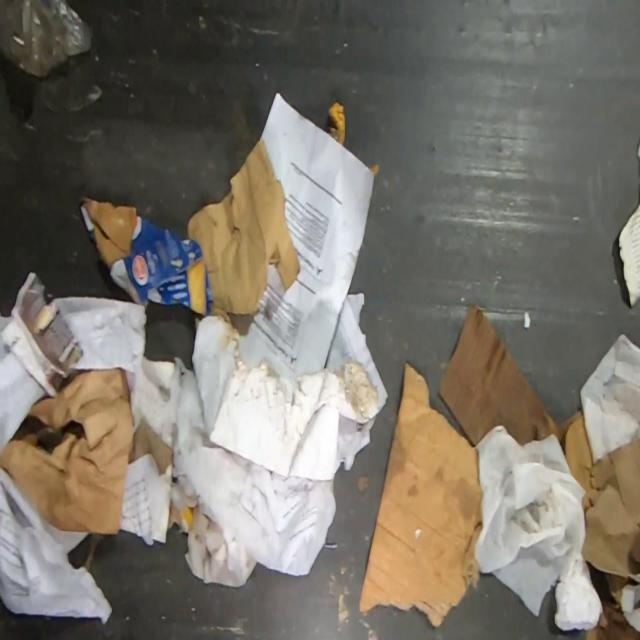cardboard: (185, 138, 382, 482), (358, 361, 484, 628), (436, 300, 566, 460), (560, 409, 640, 639), (78, 193, 214, 317)
rigid_plastic: (0, 0, 97, 80)
